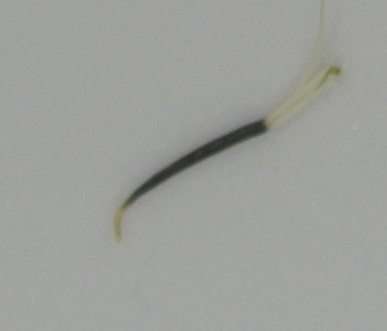เมล็ดดีเรียวยาว: (113, 1, 377, 243)
